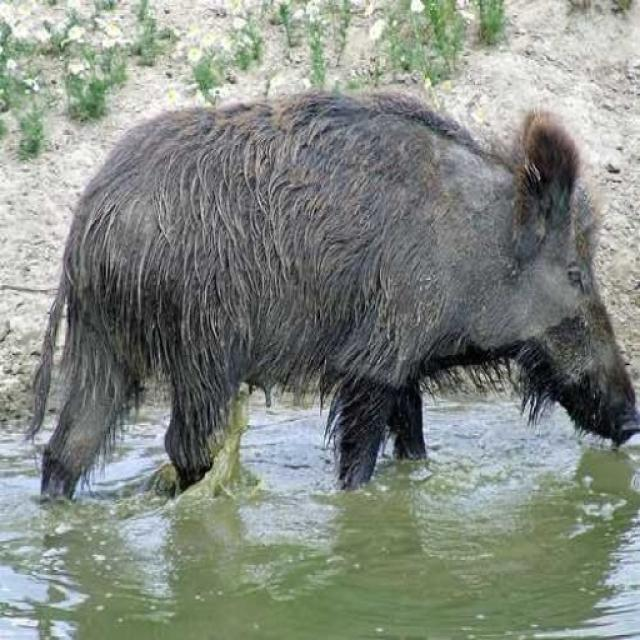pig: (38, 64, 604, 508)
